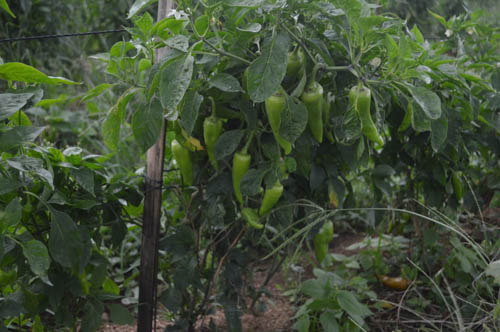ChiliPepper: (347, 87, 383, 145), (267, 94, 293, 150), (302, 86, 323, 143), (171, 141, 191, 184), (231, 152, 247, 205), (202, 118, 220, 160), (261, 183, 282, 215), (280, 54, 302, 83), (316, 222, 331, 259)
